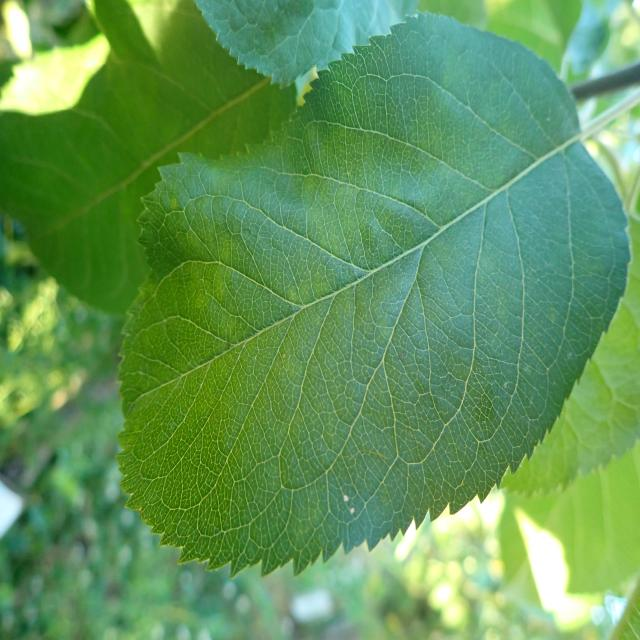healthy: (116, 10, 632, 580), (1, 0, 298, 317), (497, 214, 640, 499), (192, 0, 420, 89)
